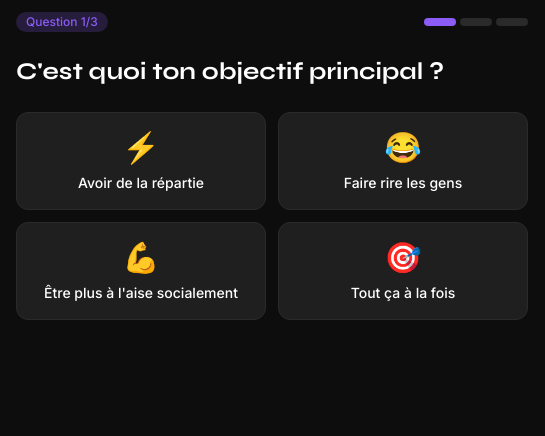
Test: HumorQuiz › shows result screen after all 3 answers (DEBUTANT)
Click the text "Avoir de la répartie": (141, 183) [78,173,204,193]
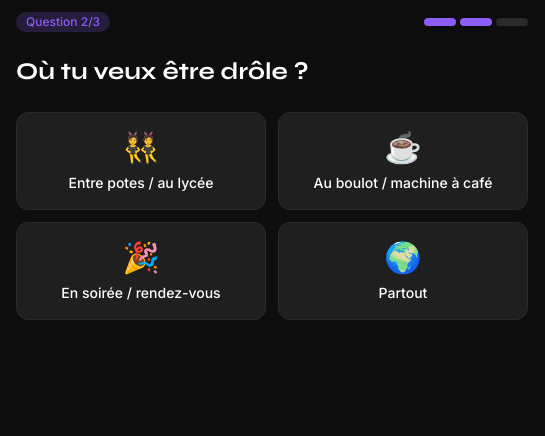
Click the text "Entre potes / au lycée": (141, 183) [68,173,213,193]
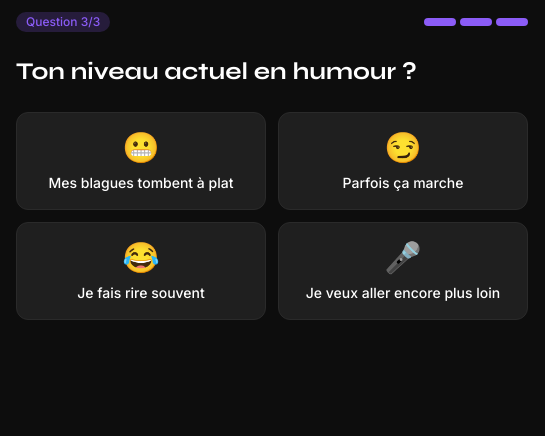
Click the text "Mes blagues tombent à plat": (141, 183) [48,173,233,193]
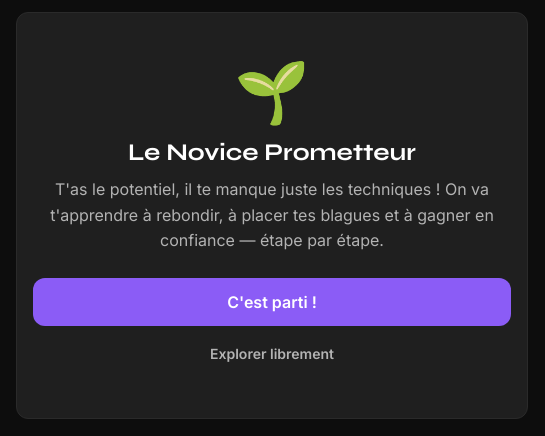
Expected: the heading "Le Novice Prometteur" is shown, [128,138,416,167]
Expected: the text "🌱" is shown, [235,55,310,127]
Expected: the text "potentiel" is shown, [50,179,494,250]
